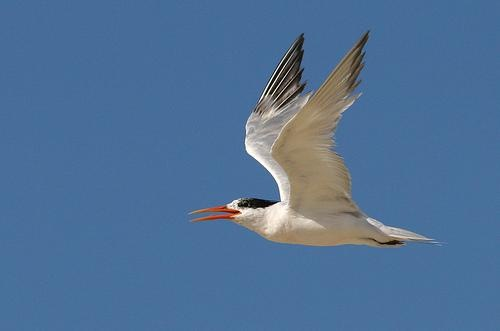bird: (189, 32, 438, 251)
